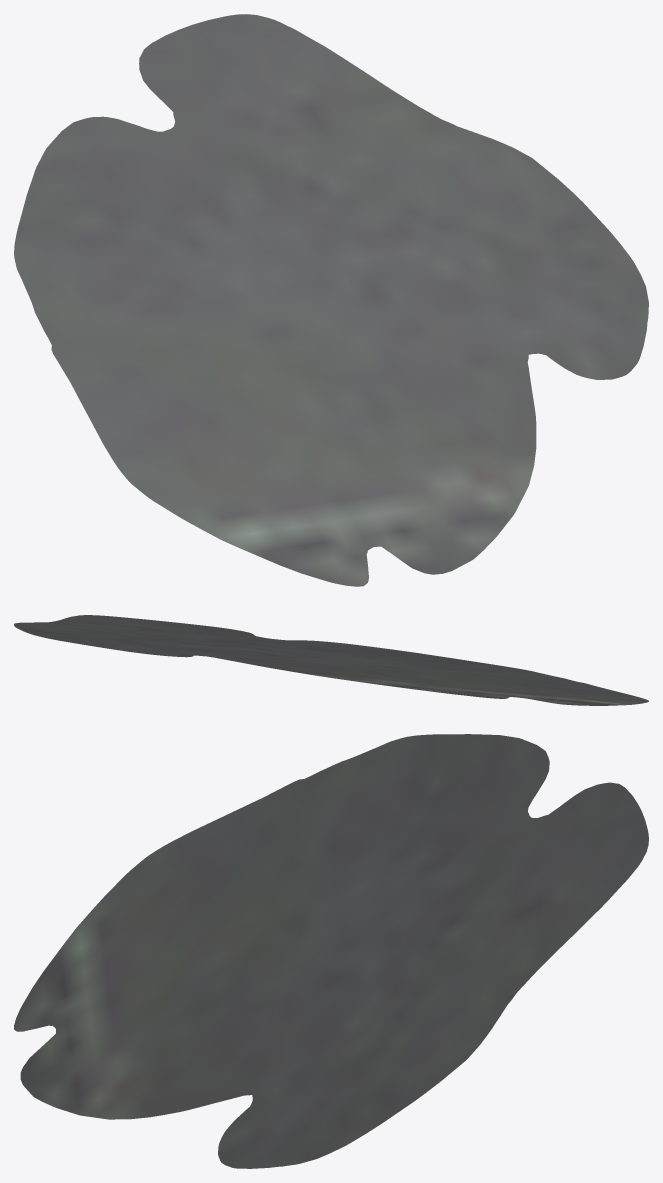
Rendered from Stump_Head.gltf.
The picture shows the model from 3 angles, top to bottom: view 1: azimuth 30°, elevation 25°; view 2: azimuth 150°, elevation 25°; view 3: azimuth 270°, elevation 25°; orthographic projection. The views are drawn at different scales.
Parts seen in each view (by area): view 1: Stump_Head; view 2: Stump_Head; view 3: Stump_Head.
Boxes of the visible parts, bbox=[...] form: Stump_Head: bbox=[14, 14, 648, 586]; Stump_Head: bbox=[14, 615, 648, 705]; Stump_Head: bbox=[14, 734, 648, 1168].
Bounding box in the file's own units: 0.3141 × 0.1502 × 0.2878.
Materials: 1 (1 with a texture image).
